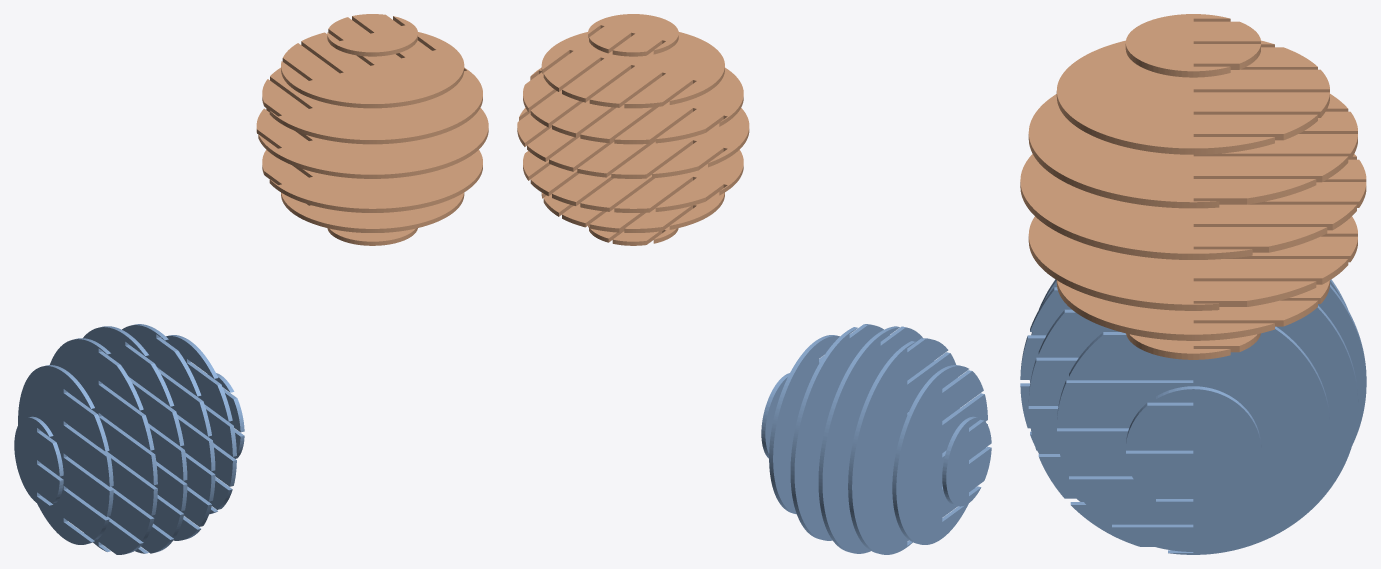
The model's file is waffle_scene.glb.
3 renders of one model, left to right at view 1: azimuth 30°, elevation 25°; view 2: azimuth 150°, elevation 25°; view 3: azimuth 270°, elevation 25°, orthographic. The views are drawn at different scales.
Parts seen in each view (by area): view 1: world; view 2: world; view 3: world.
Part boxes in pixels (x1,y1,x2,y2): world: [14, 14, 488, 554]; world: [517, 14, 991, 554]; world: [1020, 14, 1366, 554].
Bounding box in the file's own units: 8.68 × 8.6 × 4.
